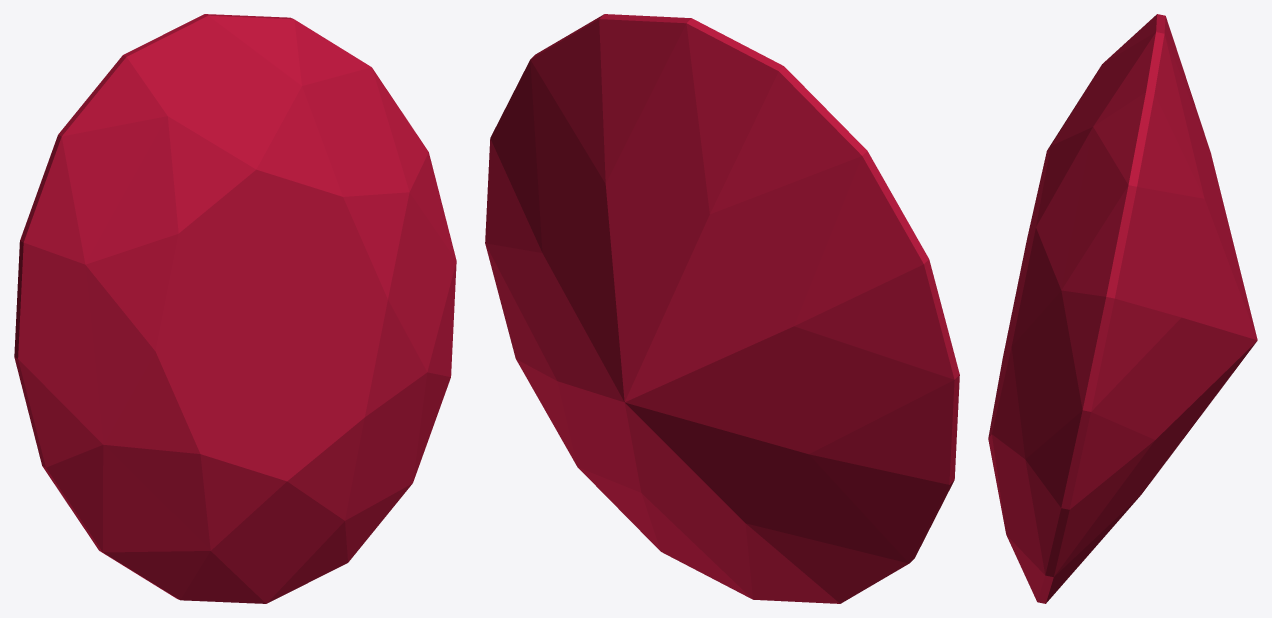
File: ruby.glb
3 renders of one model, left to right at view 1: azimuth 30°, elevation 25°; view 2: azimuth 150°, elevation 25°; view 3: azimuth 270°, elevation 25°, orthographic. The views are drawn at different scales.
Parts seen in each view (by area): view 1: ruby; view 2: ruby; view 3: ruby.
Part boxes in pixels (box(x1,y1,x2,y2)): ruby: box(14, 14, 456, 603); ruby: box(485, 14, 959, 603); ruby: box(988, 14, 1257, 603).
Size of the model in its own units: 1.88 by 2.31 by 1.02.
